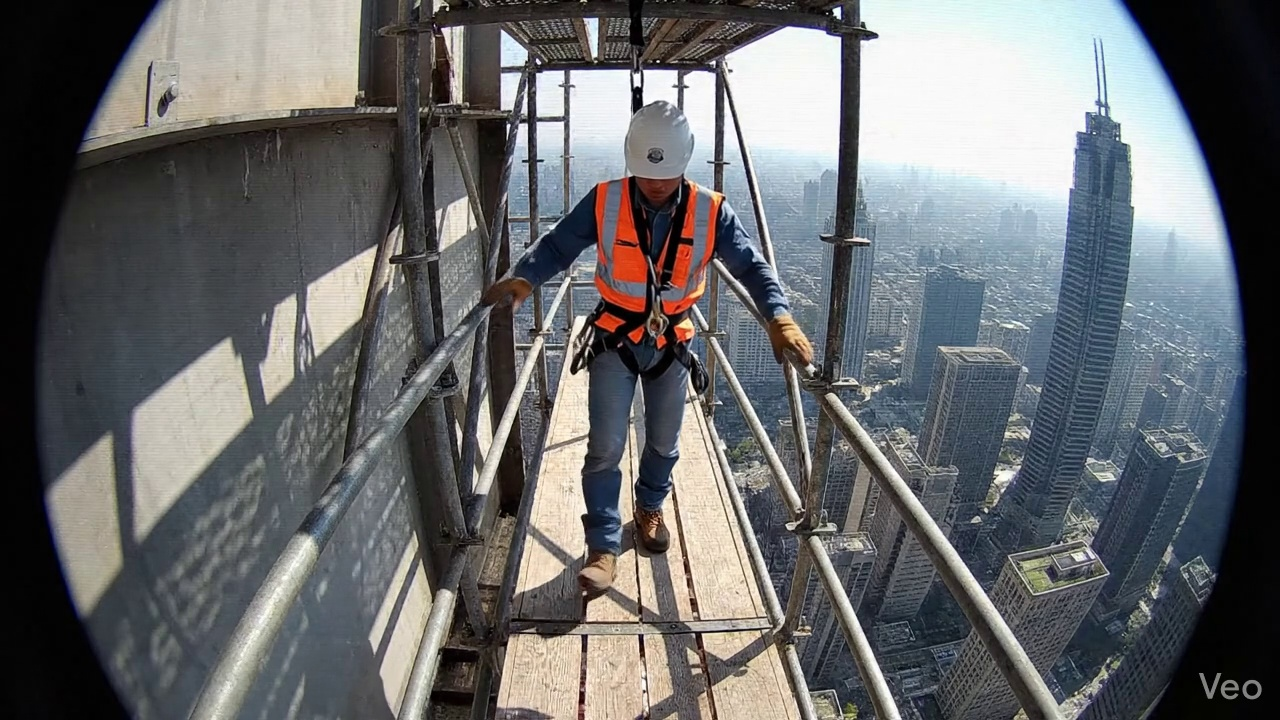person: (484, 100, 811, 596)
